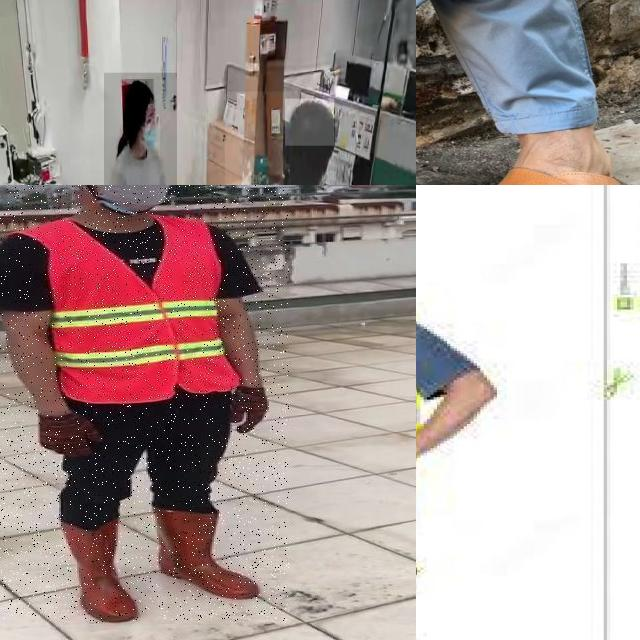No_Ear-Protection: (56, 185, 92, 194)
Sandals: (441, 128, 623, 185)
boots: (152, 505, 262, 601), (59, 523, 141, 624)
face_mask: (140, 115, 160, 156)
head_nohelmet: (285, 98, 335, 146), (124, 79, 154, 105)
person: (0, 185, 289, 623), (104, 73, 177, 185)
vest: (46, 214, 235, 403)
